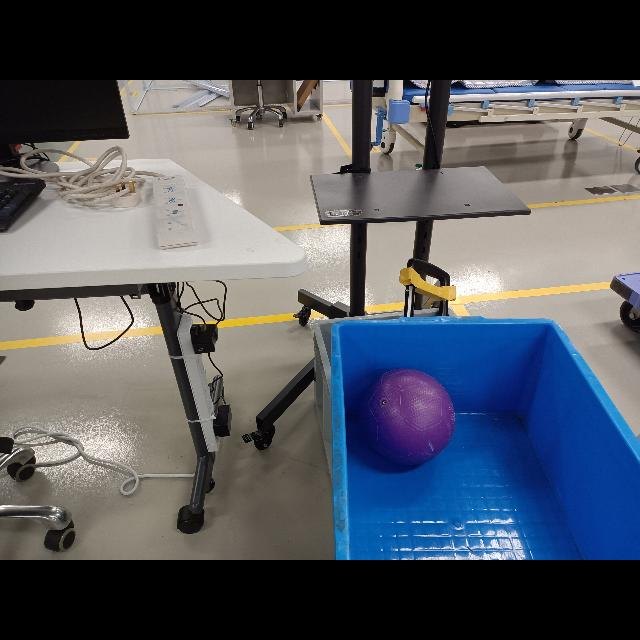P: (361, 370, 459, 466)
